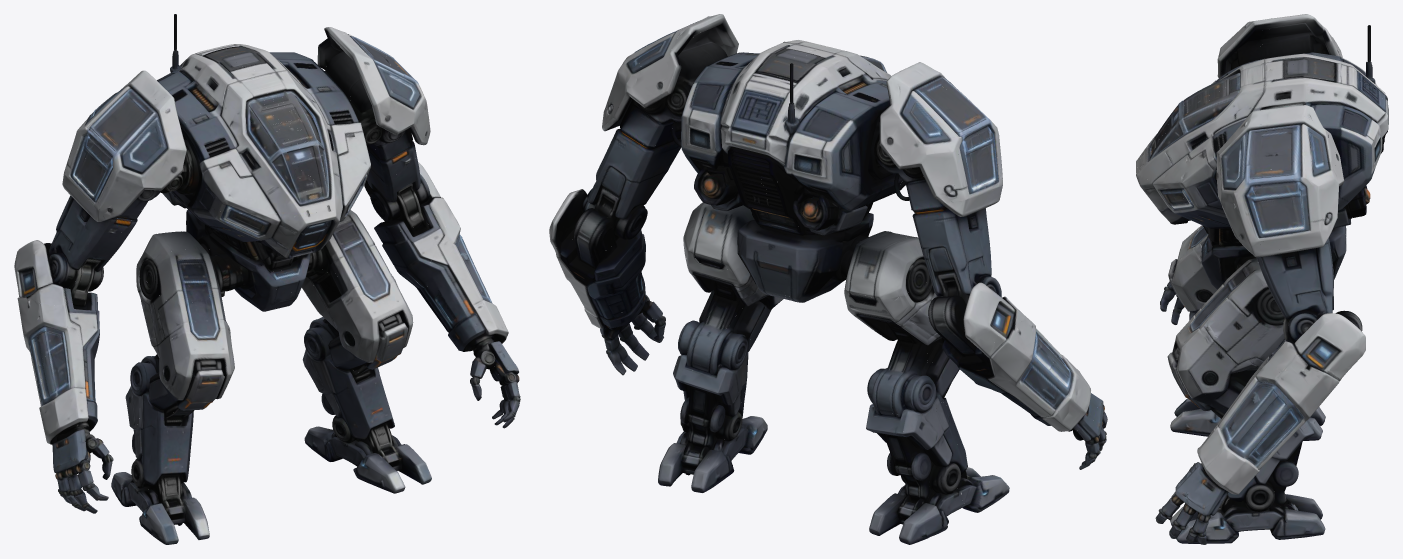
Rendered from mech_opt.glb.
The picture shows the model from 3 angles, left to right: view 1: azimuth 30°, elevation 25°; view 2: azimuth 150°, elevation 25°; view 3: azimuth 270°, elevation 25°; orthographic projection. The views are drawn at different scales.
Visible parts, largest first — view 1: world; view 2: world; view 3: world.
Part boxes in pixels (left/top/right/bottom): world: left=14, top=14, right=520, bottom=544; world: left=549, top=14, right=1107, bottom=544; world: left=1136, top=14, right=1388, bottom=544.
Size of the model in its own units: 1 by 0.9153 by 0.4768.
Materials: 1 (1 with a texture image).
